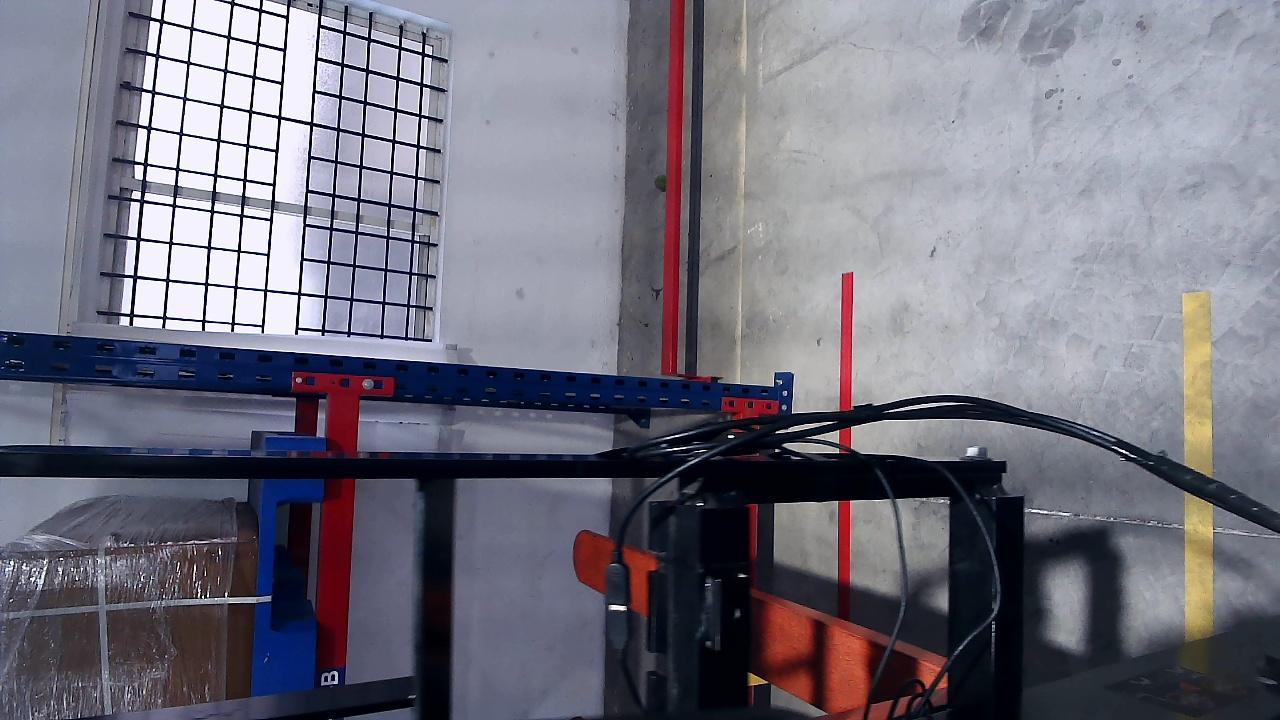h_rack: (324, 399, 348, 688)
red_line: (838, 271, 855, 585)
small_pallet: (250, 438, 324, 697)
yellow_line: (1182, 292, 1215, 645)
